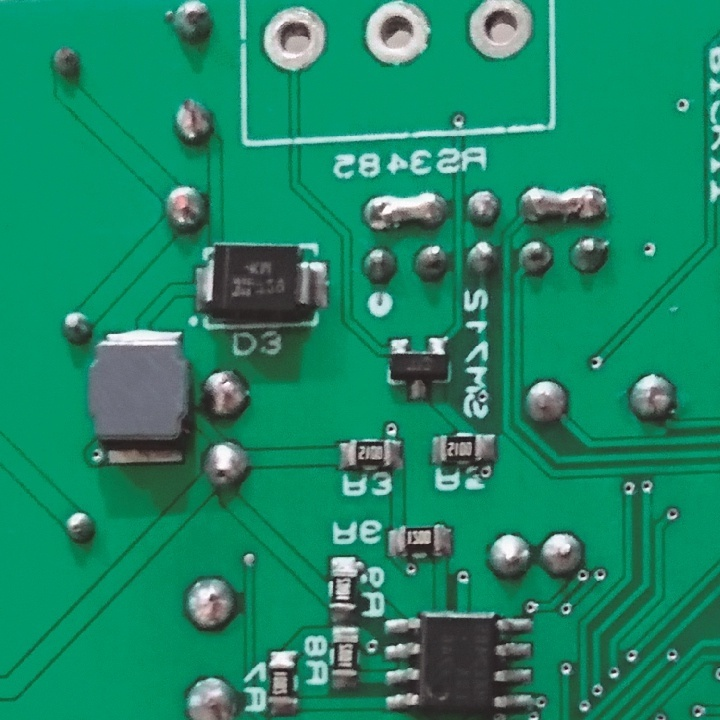F: (362, 1, 433, 75), (462, 1, 537, 71), (260, 5, 324, 83)
P: (515, 181, 615, 225), (357, 190, 449, 232)
